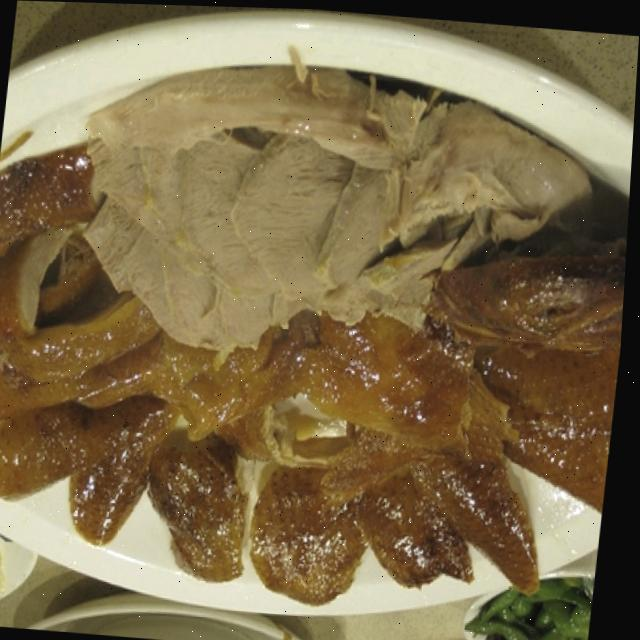烧串烤肉: (0, 12, 639, 635)
